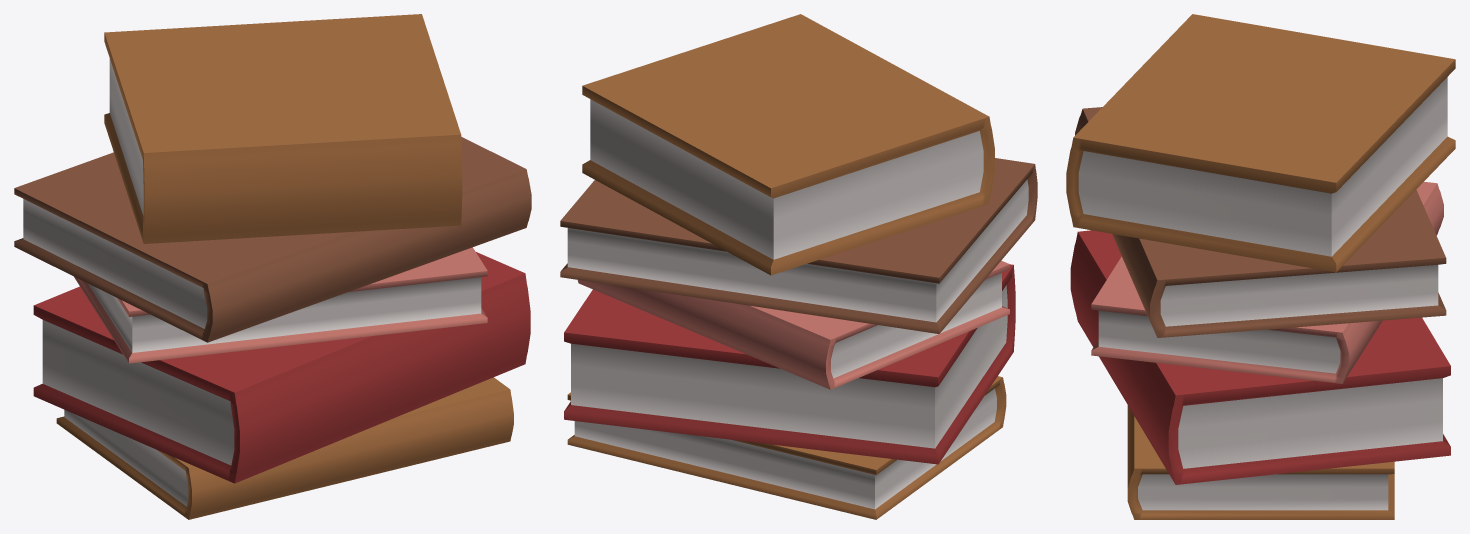
File: Mesh_Book_04.fbx
3 views of the same model, side by side, from view 1: azimuth 30°, elevation 25°; view 2: azimuth 150°, elevation 25°; view 3: azimuth 270°, elevation 25° (orthographic). The views are drawn at different scales.
Parts seen in each view (by area): view 1: Book8, Book9, Book11, Book12, Book10; view 2: Book8, Book9, Book11, Book12, Book10; view 3: Book8, Book9, Book11, Book10, Book12.
Boxes of the visible parts, x1=… form: Book8: x1=104, y1=14, x2=462, y2=243; Book9: x1=33, y1=252, x2=530, y2=483; Book11: x1=14, y1=137, x2=531, y2=342; Book12: x1=56, y1=377, x2=513, y2=519; Book10: x1=74, y1=247, x2=487, y2=363; Book8: x1=582, y1=14, x2=994, y2=275; Book9: x1=564, y1=264, x2=1015, y2=464; Book11: x1=560, y1=158, x2=1037, y2=333; Book12: x1=567, y1=376, x2=1006, y2=519; Book10: x1=577, y1=260, x2=1009, y2=389; Book8: x1=1066, y1=14, x2=1455, y2=272; Book9: x1=1070, y1=230, x2=1450, y2=484; Book11: x1=1075, y1=107, x2=1446, y2=337; Book10: x1=1091, y1=181, x2=1443, y2=383; Book12: x1=1127, y1=405, x2=1394, y2=519.
Bounding box in the file's own units: 36.37 × 29.33 × 30.07.
